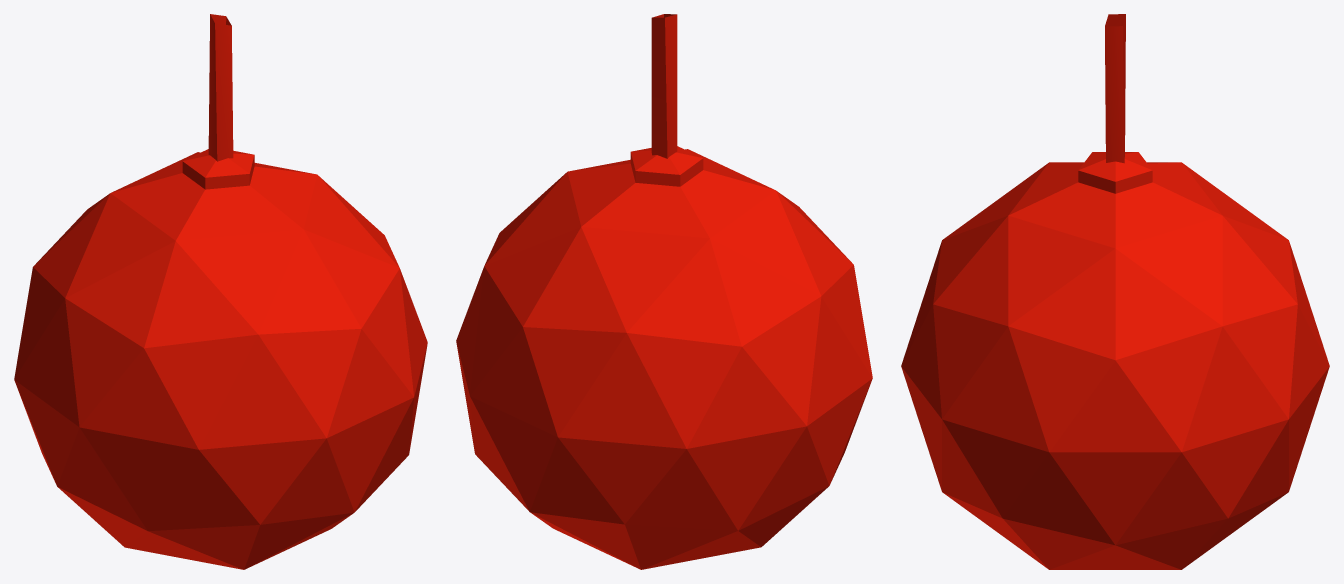
File: Bomb_red.glb
The picture shows the model from 3 angles, left to right: view 1: azimuth 30°, elevation 25°; view 2: azimuth 150°, elevation 25°; view 3: azimuth 270°, elevation 25°; orthographic projection.
Parts seen in each view (by area): view 1: Bomb_01; view 2: Bomb_01; view 3: Bomb_01.
Boxes of the visible parts, x1,y1,x2,y2 form: Bomb_01: (14, 14, 427, 569); Bomb_01: (456, 14, 872, 569); Bomb_01: (901, 14, 1329, 569).
Size of what is drawn, in the model's own units: 0.2754 by 0.4052 by 0.2896.
